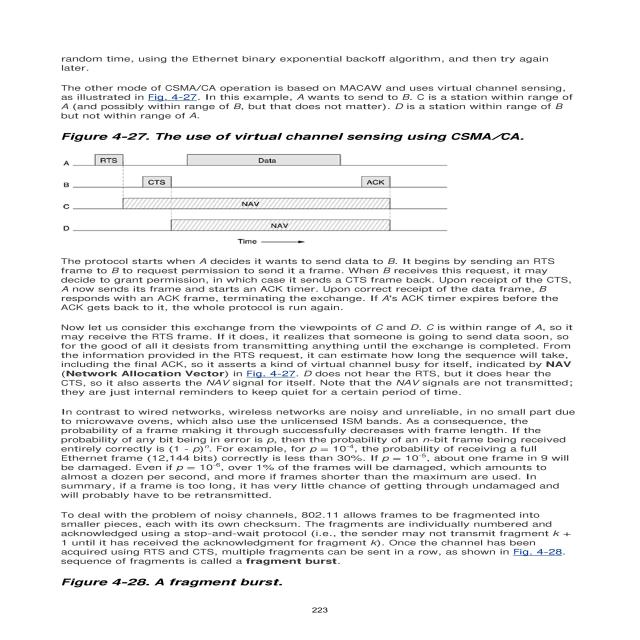diagram: (40, 125, 597, 252)
